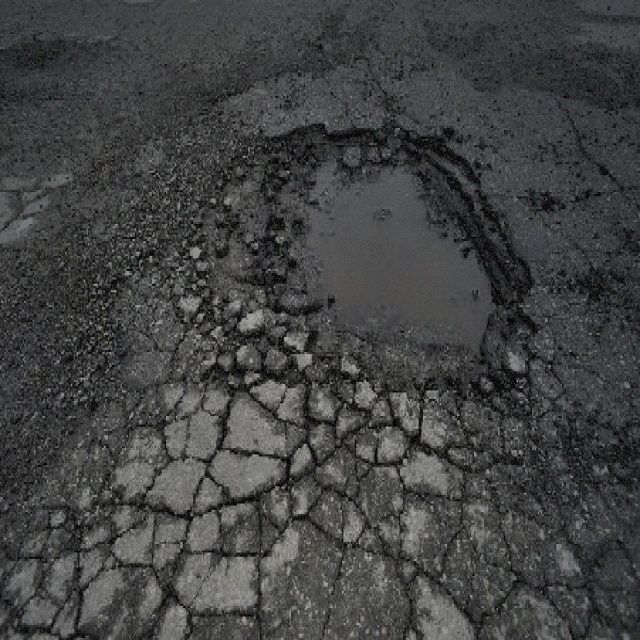pothole: (186, 113, 538, 412)
